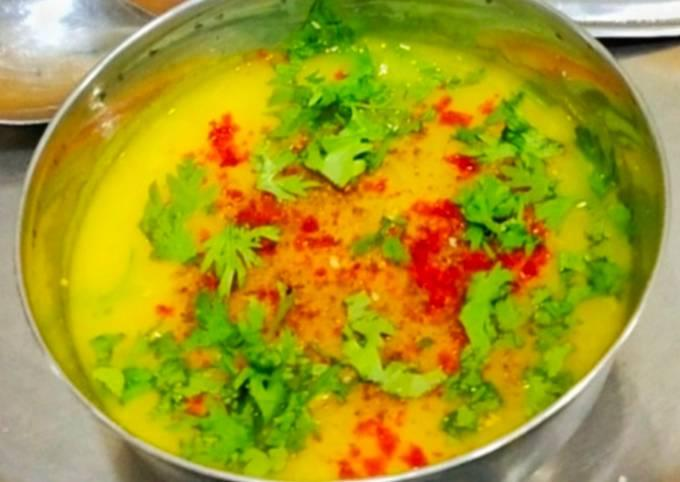varan: (60, 44, 593, 422)
